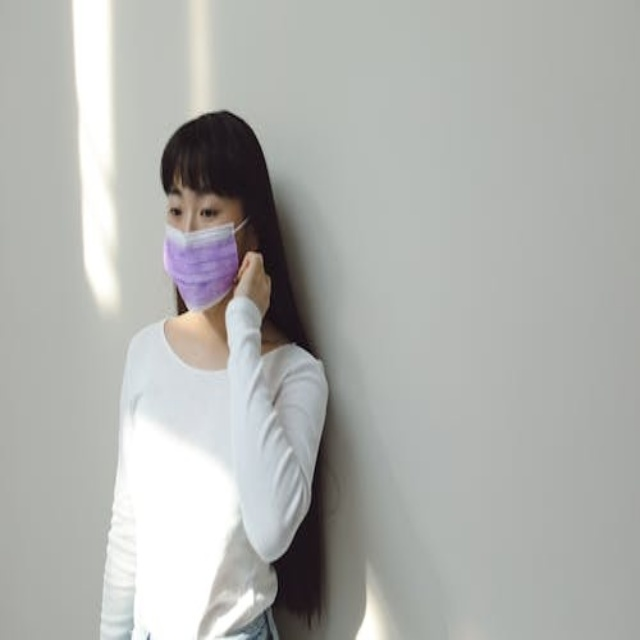Mascara: (163, 215, 250, 312)
Sin_gafas: (199, 207, 219, 219), (168, 205, 183, 218)
Sin_guantes: (224, 238, 284, 313)
